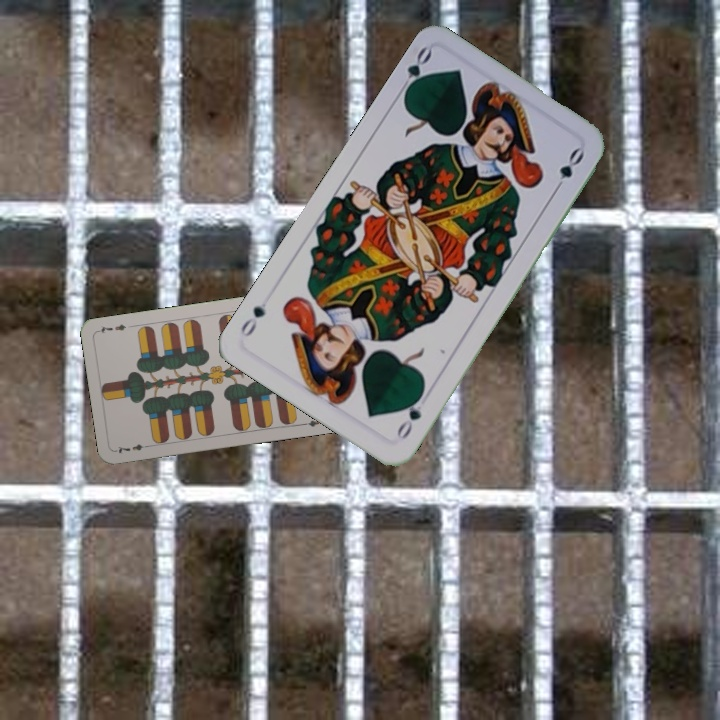E7: (112, 440, 153, 456)
GO: (393, 43, 435, 100), (392, 389, 426, 442)
